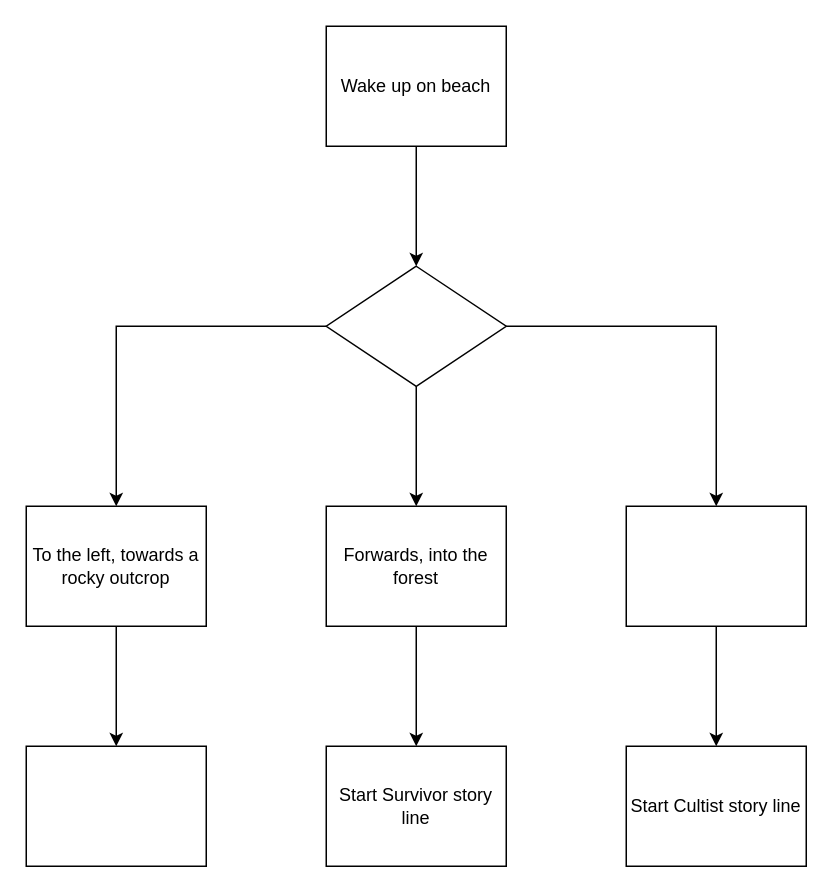
Some shapes in this 833 by 893 pixel diagram are drawn without their labels. Here are the shapes that lost their labels. From the top down, the box of each, then its label:
(325, 265, 506, 386): Explore?
(625, 505, 806, 626): To the right, towards a wide-open beach
(25, 745, 206, 866): Start Bandit story line
